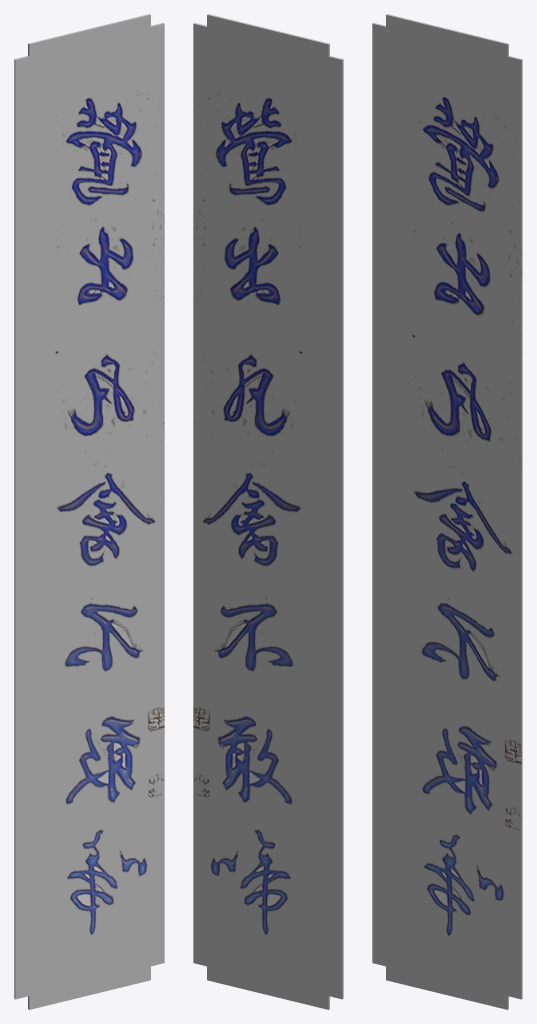
The model's file is SM_Unhyun_Iro_Joo_O001.fbx.
The picture shows the model from 3 angles, left to right: view 1: azimuth 30°, elevation 25°; view 2: azimuth 150°, elevation 25°; view 3: azimuth 330°, elevation 25°; orthographic projection.
Visible parts, largest first — view 1: SM_Unhyun_Iro_Joo_O001; view 2: SM_Unhyun_Iro_Joo_O001; view 3: SM_Unhyun_Iro_Joo_O001.
Boxes of the visible parts, x1,y1,x2,y2 form: SM_Unhyun_Iro_Joo_O001: (14,14,164,1009); SM_Unhyun_Iro_Joo_O001: (193,14,343,1009); SM_Unhyun_Iro_Joo_O001: (372,14,522,1009).
Size of the model in its own units: 14.56 by 90.01 by 0.2.
